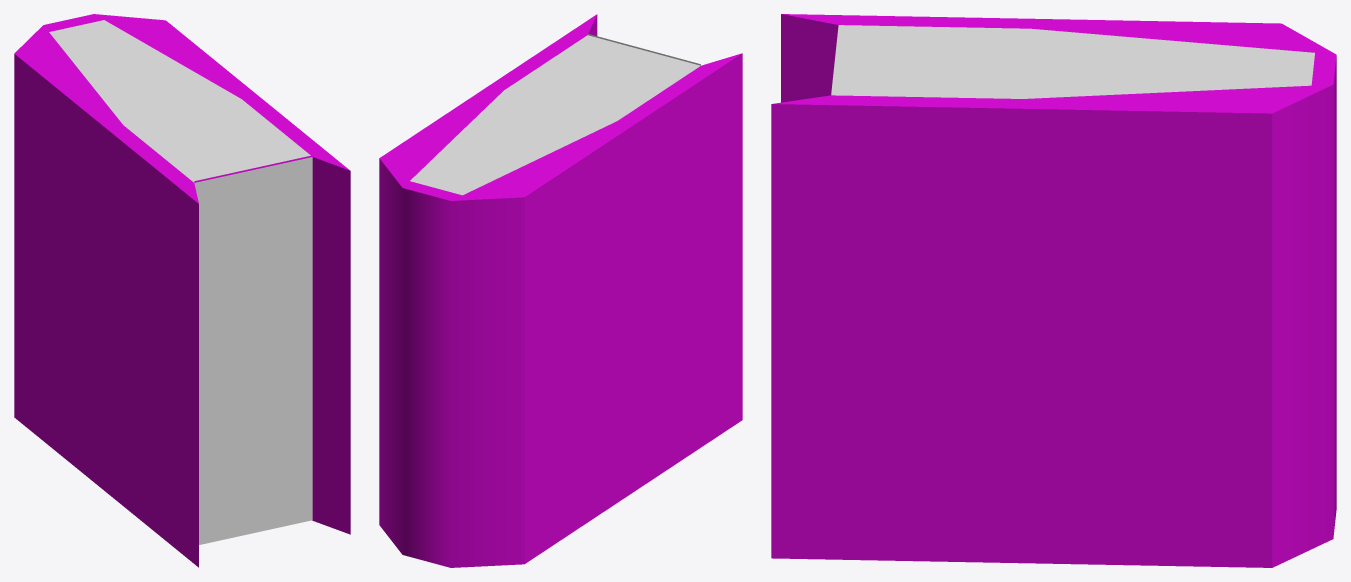
File: Book(Pink).fbx
3 renders of one model, left to right at view 1: azimuth 30°, elevation 25°; view 2: azimuth 150°, elevation 25°; view 3: azimuth 270°, elevation 25°, orthographic. The views are drawn at different scales.
Parts seen in each view (by area): view 1: Book_Pink; view 2: Book_Pink; view 3: Book_Pink.
Boxes of the visible parts, x1,y1,x2,y2 form: Book_Pink: [14, 14, 350, 567]; Book_Pink: [379, 14, 742, 567]; Book_Pink: [771, 14, 1336, 567].
Size of the model in its own units: 0.1932 by 0.4128 by 0.4635.
